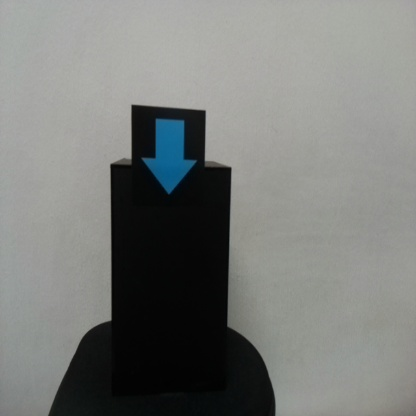id_2: (131, 107, 206, 217)
